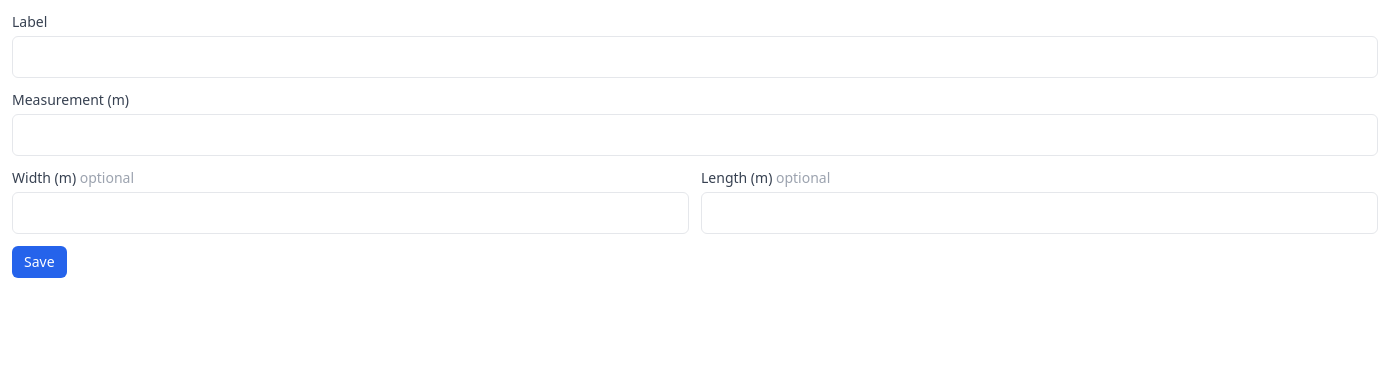
SegmentForm › rejects negative measurement
Type "X" into the field labelled "Label" at (695, 57), box [12,36,1378,78]
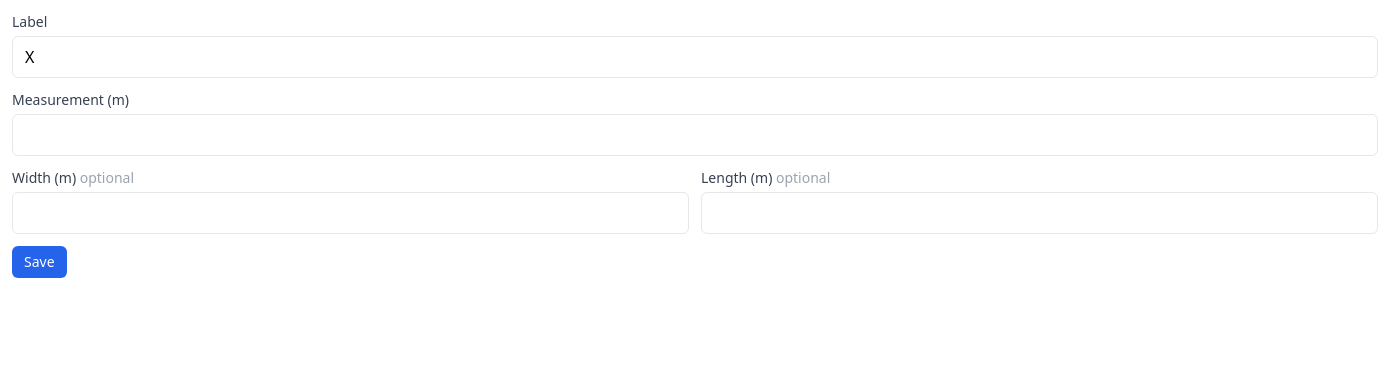
Type "-1" into the number field labelled "Measurement (m)" at (695, 135), box [12,114,1378,156]
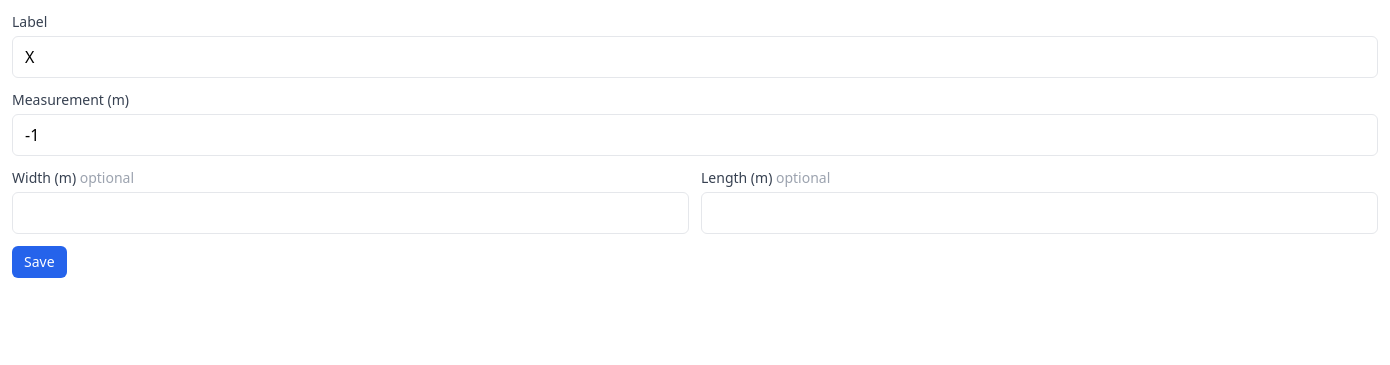
Submit the form named "Segment form"
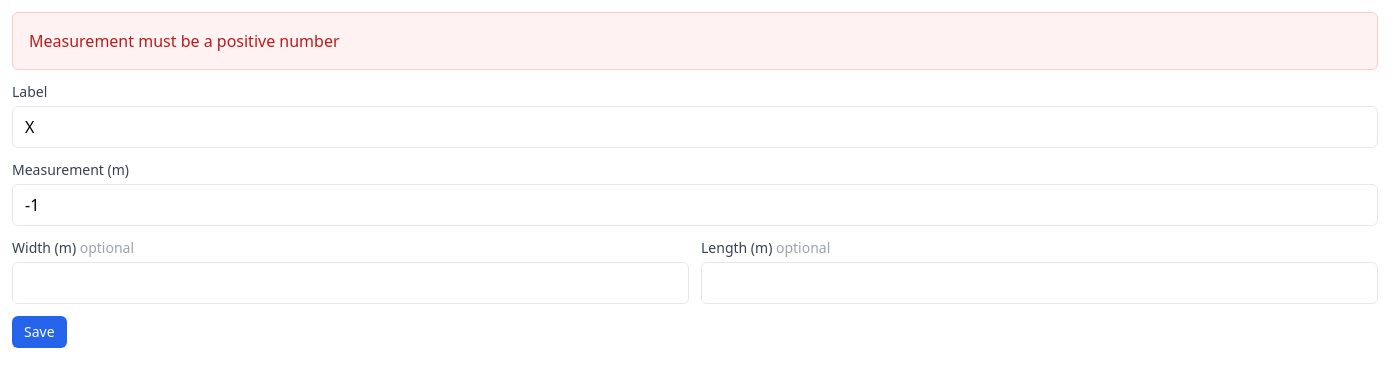
Now the message shows "positive", box [29,30,340,52]
